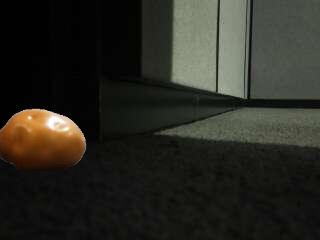Potato: (0, 109, 87, 172)
